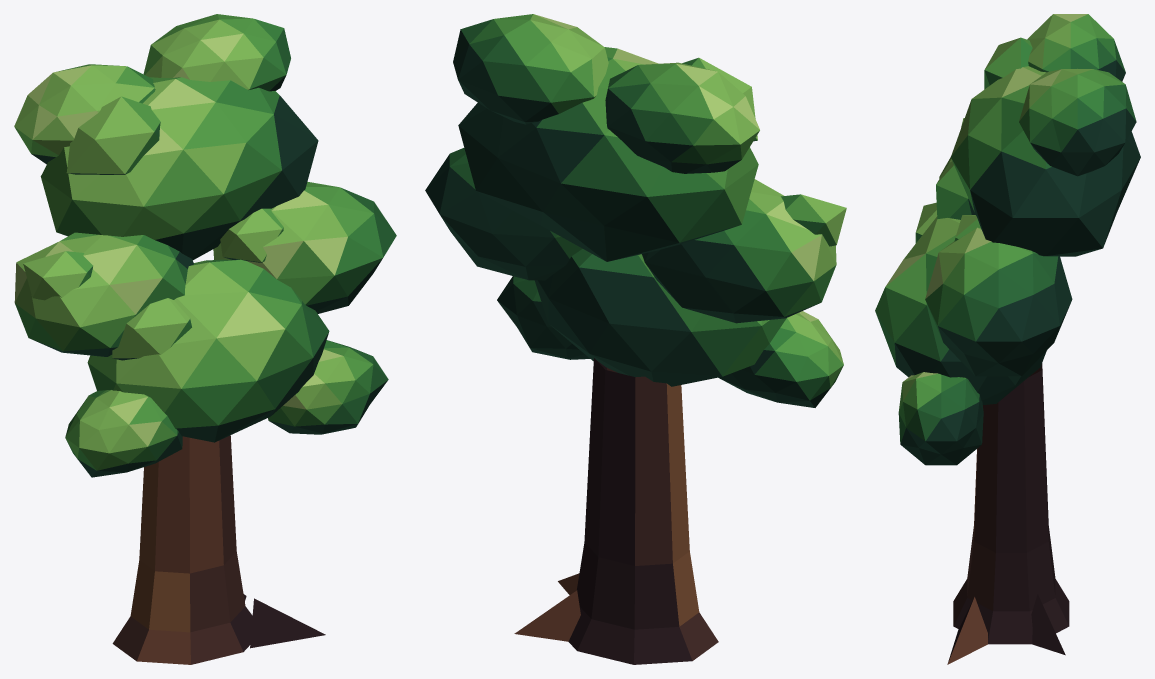
Rendered from tree_tree4.glb.
3 views of the same model, side by side, from view 1: azimuth 30°, elevation 25°; view 2: azimuth 150°, elevation 25°; view 3: azimuth 270°, elevation 25° (orthographic). The views are drawn at different scales.
Parts seen in each view (by area): view 1: tree4; view 2: tree4; view 3: tree4.
Boxes of the visible parts, left/top/right/bottom form: tree4: left=14, top=14, right=396, bottom=664; tree4: left=425, top=14, right=846, bottom=664; tree4: left=875, top=14, right=1140, bottom=664.
Bounding box in the file's own units: 1.02 × 1.56 × 0.6573.
